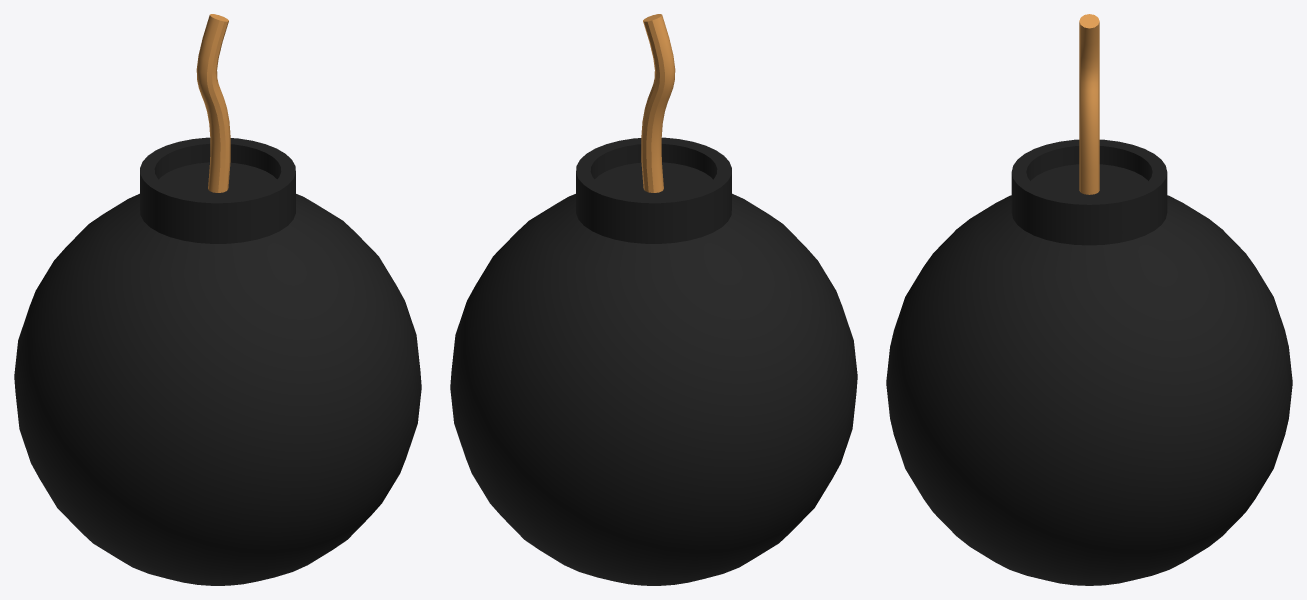
File: bomb.fbx
The picture shows the model from 3 angles, left to right: view 1: azimuth 30°, elevation 25°; view 2: azimuth 150°, elevation 25°; view 3: azimuth 270°, elevation 25°; orthographic projection.
Visible parts, largest first — view 1: Sphere; view 2: Sphere; view 3: Sphere.
Boxes of the visible parts, left/top/right/bottom form: Sphere: left=14, top=14, right=421, bottom=585; Sphere: left=450, top=14, right=857, bottom=585; Sphere: left=886, top=14, right=1292, bottom=585.
Bounding box in the file's own units: 200 × 298 × 200.
